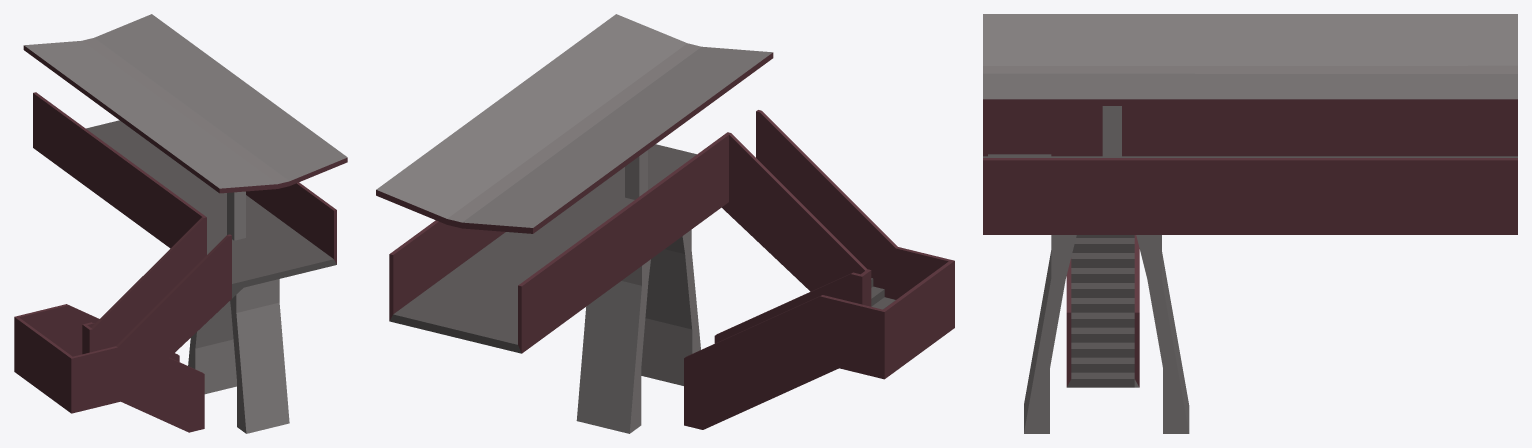
File: trainstation-oberpass.fbx
3 views of the same model, side by side, from view 1: azimuth 30°, elevation 25°; view 2: azimuth 150°, elevation 25°; view 3: azimuth 270°, elevation 25° (orthographic). The views are drawn at different scales.
Visible parts, largest first — view 1: trainstation-oberpass; view 2: trainstation-oberpass; view 3: trainstation-oberpass.
Boxes of the visible parts, x1,y1,x2,y2 form: trainstation-oberpass: [14, 14, 347, 433]; trainstation-oberpass: [376, 14, 954, 433]; trainstation-oberpass: [983, 14, 1517, 433].
Size of the model in its own units: 8.95 by 8.25 by 10.99.
